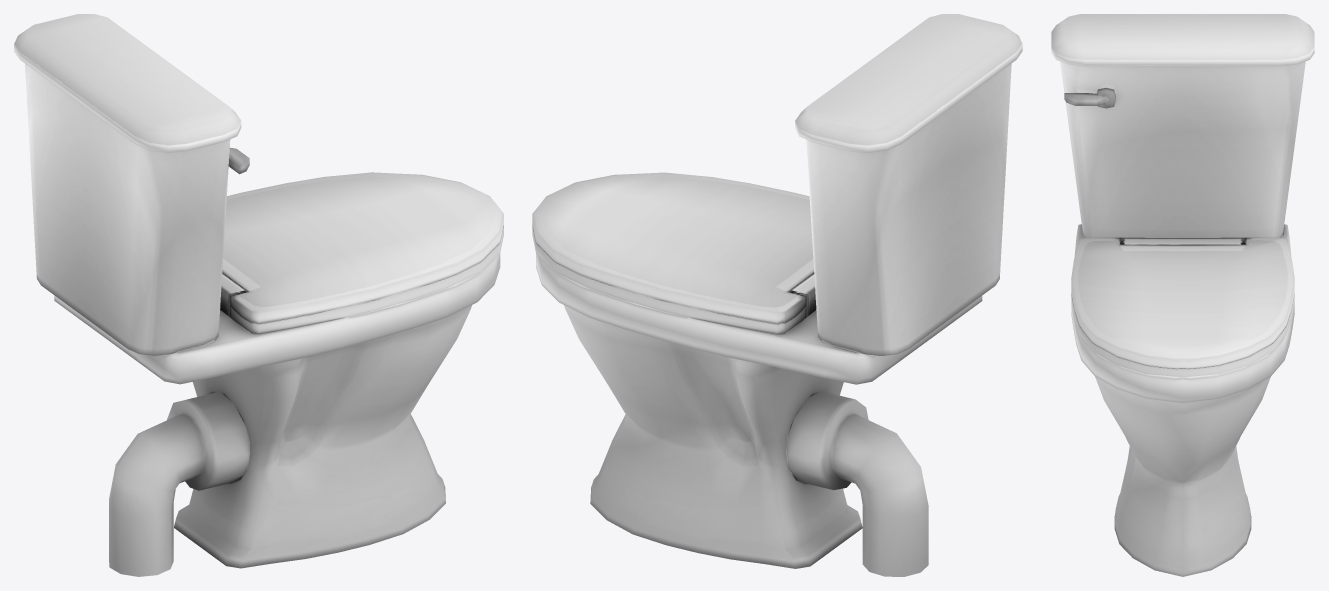
The model's file is toilet.glb.
3 renders of one model, left to right at view 1: azimuth 30°, elevation 25°; view 2: azimuth 150°, elevation 25°; view 3: azimuth 270°, elevation 25°, orthographic. The views are drawn at different scales.
Parts seen in each view (by area): view 1: Object_6; view 2: Object_6; view 3: Object_6.
Boxes of the visible parts, <box> form: Object_6: <box>14,14,503,576</box>; Object_6: <box>532,14,1022,576</box>; Object_6: <box>1051,14,1314,576</box>.
Bounding box in the file's own units: 0.7764 × 0.8891 × 0.5085.
Materials: 1 (1 with a texture image).
